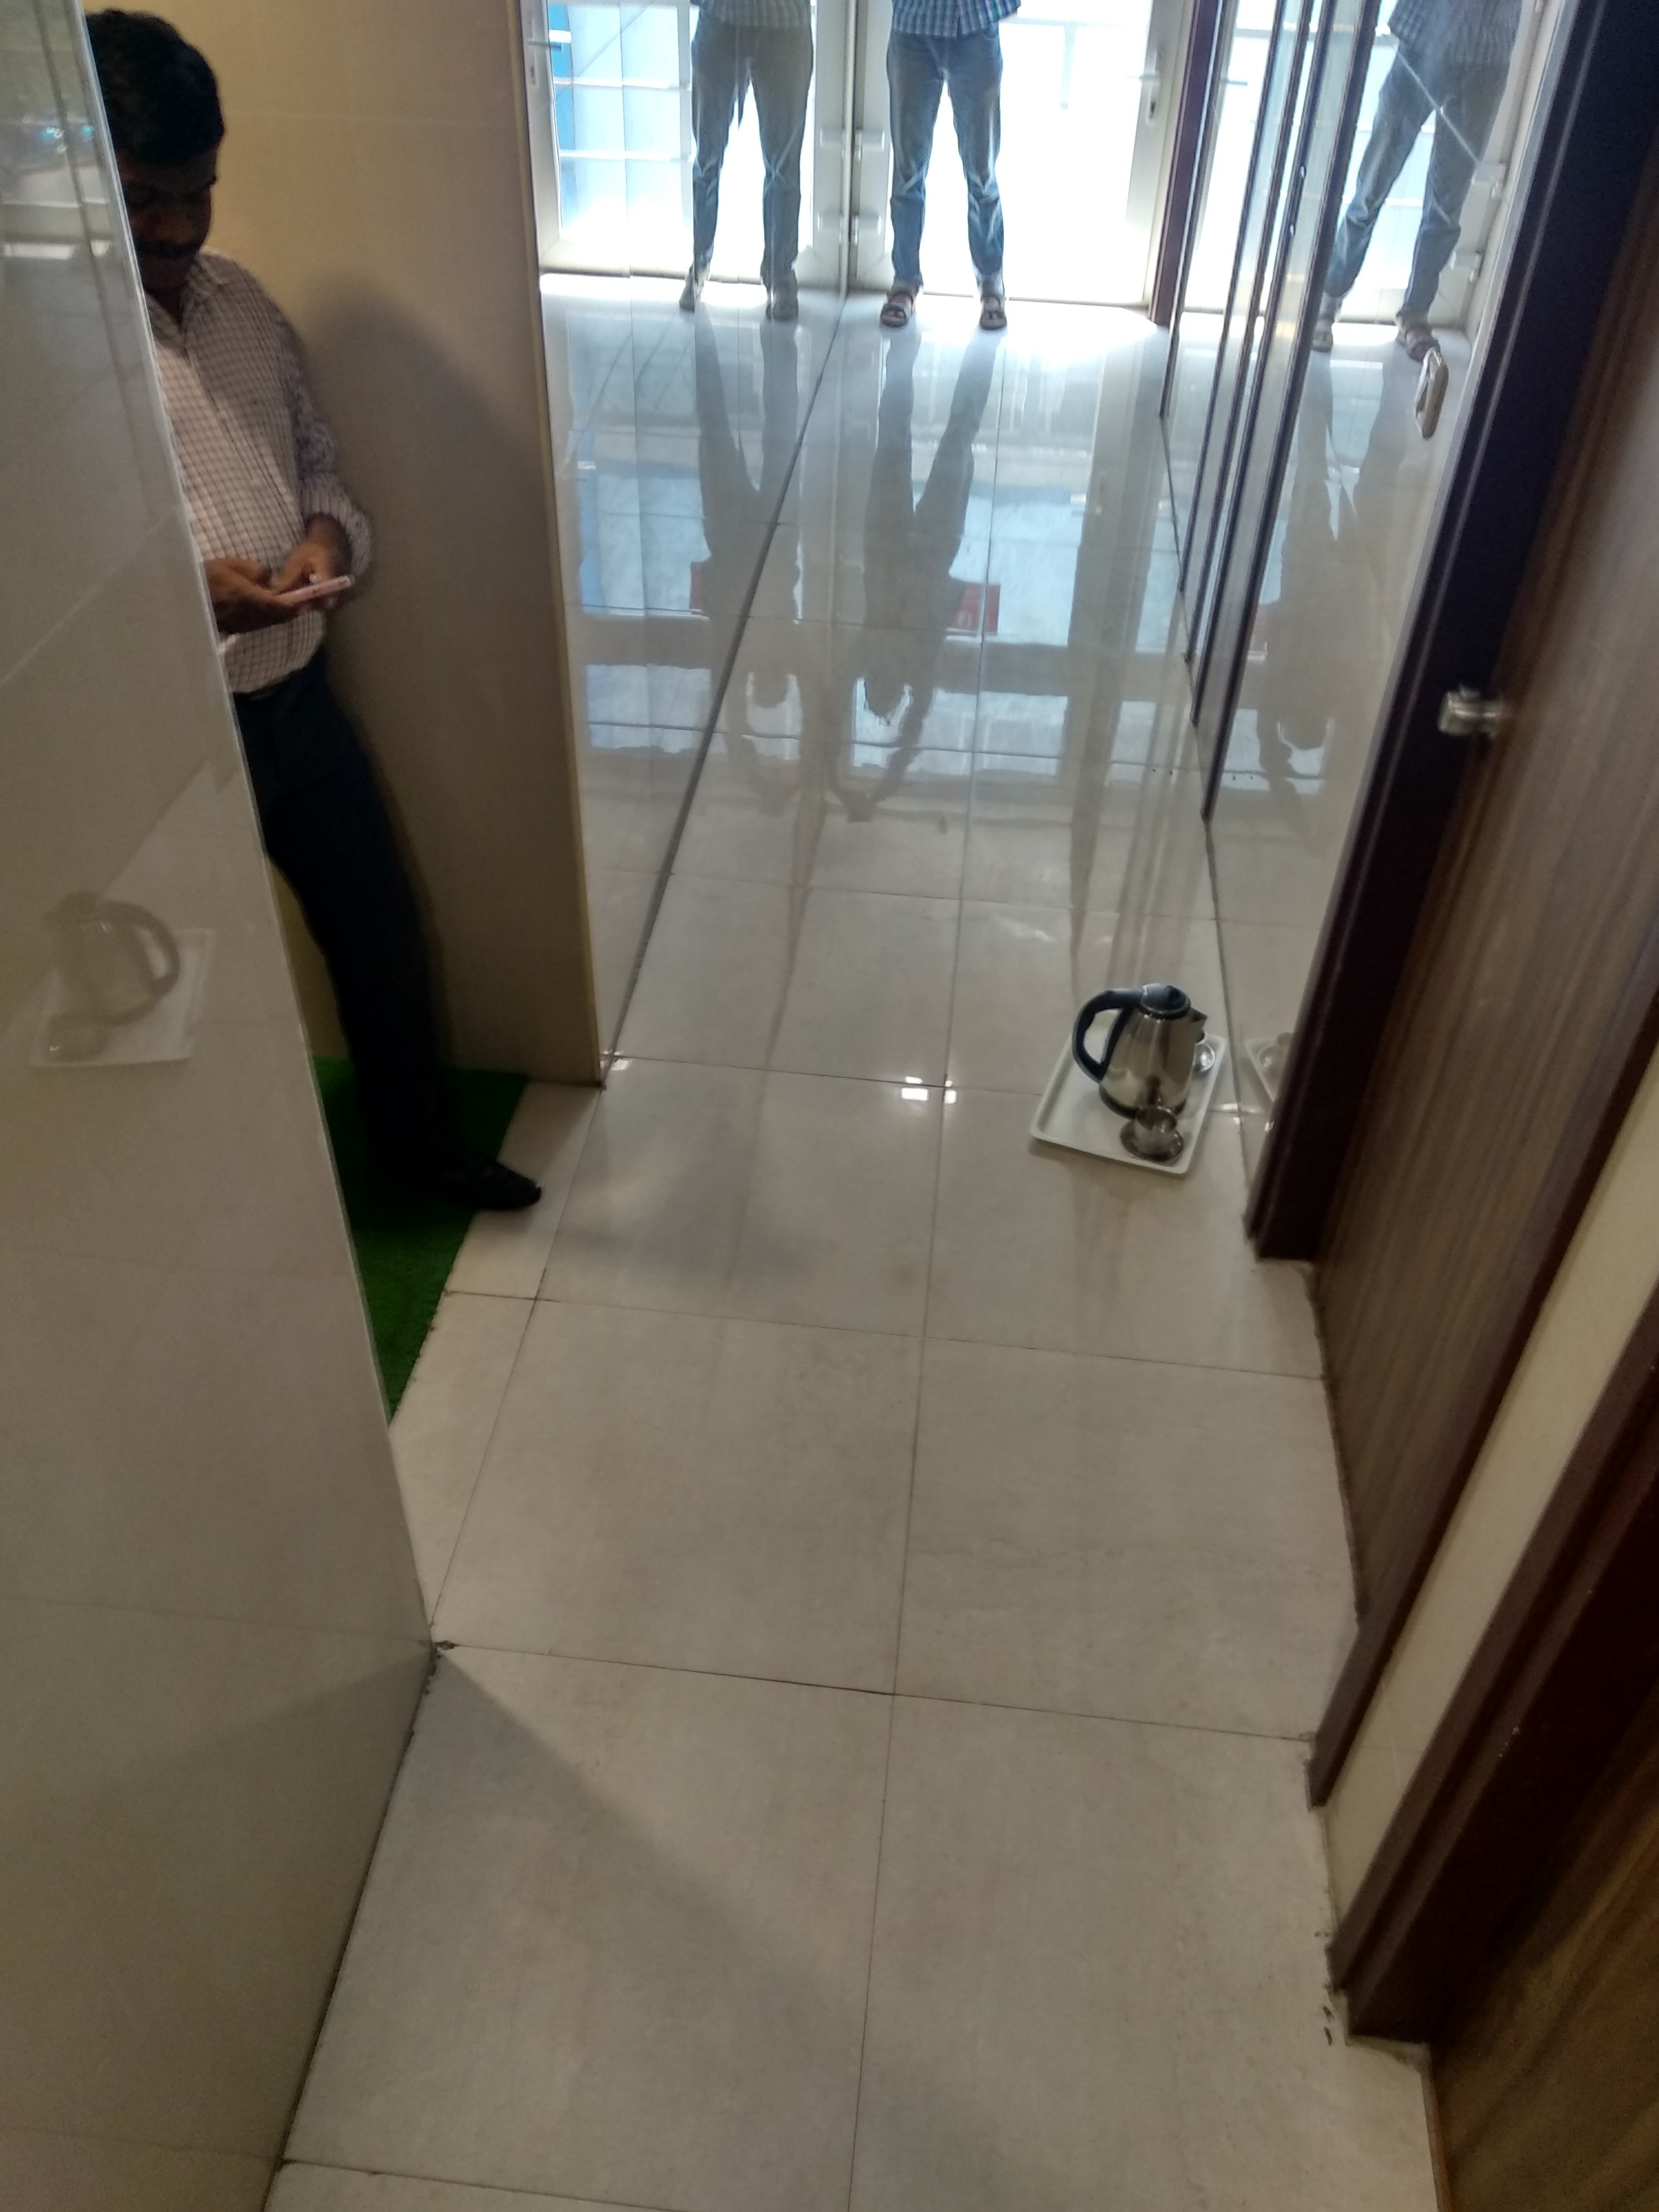CUP: (1114, 1106, 1188, 1163)
JUG: (1068, 984, 1206, 1111)
